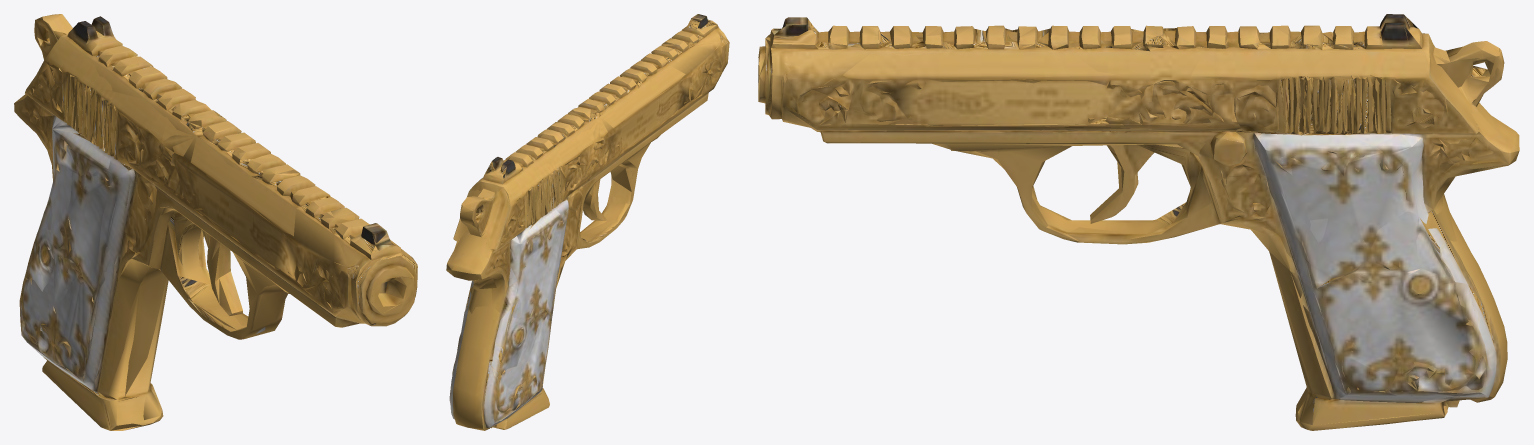
File: gold_ppk.glb
The picture shows the model from 3 angles, left to right: view 1: azimuth 30°, elevation 25°; view 2: azimuth 150°, elevation 25°; view 3: azimuth 270°, elevation 25°; orthographic projection. The views are drawn at different scales.
Visible parts, largest first — view 1: model, mesh_lod; view 2: model, mesh_lod; view 3: model, mesh_lod.
Part boxes in pixels (x1,y1,x2,y2): model: [14, 14, 417, 430]; mesh_lod: [14, 14, 417, 430]; model: [446, 14, 728, 430]; mesh_lod: [447, 14, 729, 430]; model: [758, 14, 1519, 430]; mesh_lod: [758, 14, 1519, 429].
Bounding box in the file's own units: 0.0229 × 0.1035 × 0.18.
Materials: 1 (1 with a texture image).
